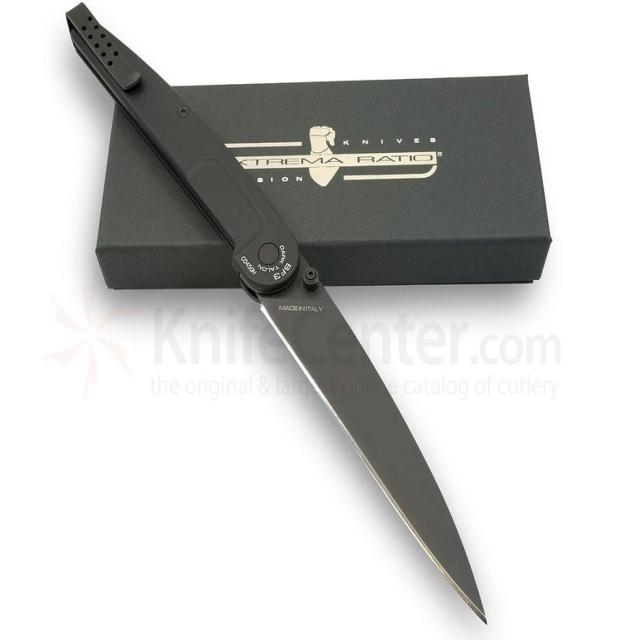knife: (59, 1, 498, 633)
